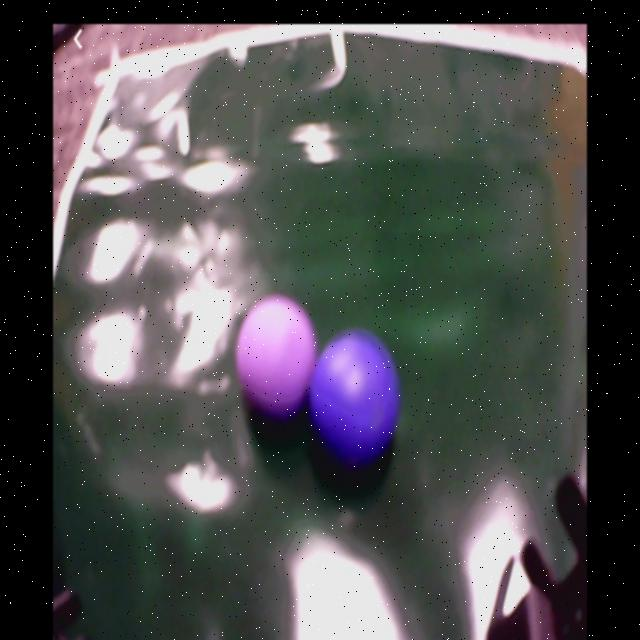ball: (313, 331, 399, 458), (239, 296, 315, 413)
